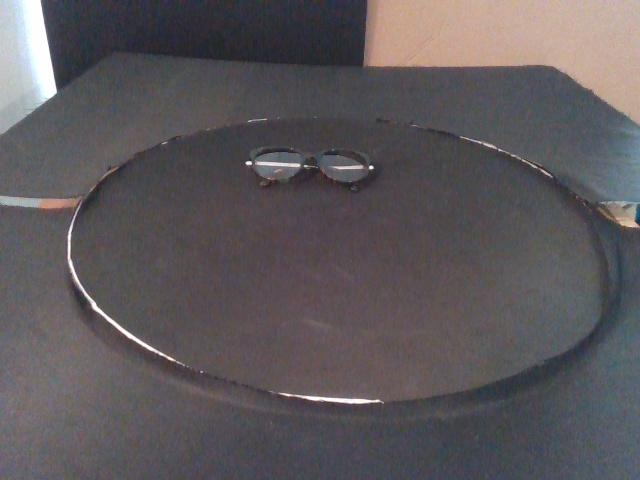glasses: (245, 143, 375, 193)
